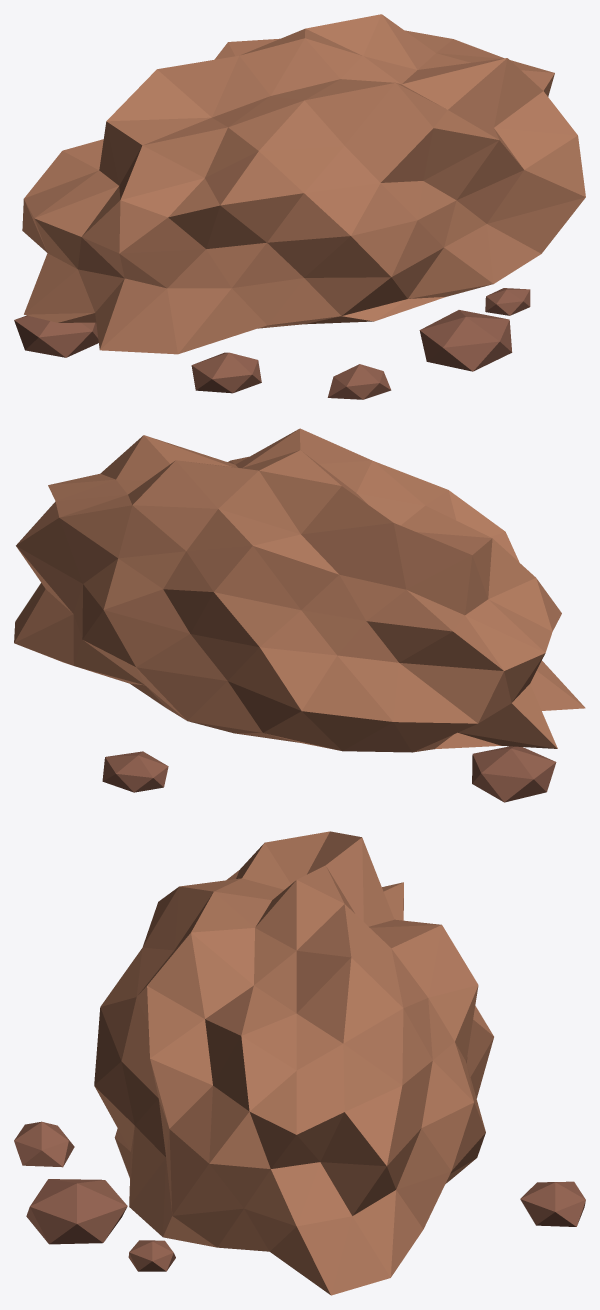
Rendered from mars_rock2.glb.
3 views of the same model, one above another, from view 1: azimuth 30°, elevation 25°; view 2: azimuth 150°, elevation 25°; view 3: azimuth 270°, elevation 25° (orthographic). The views are drawn at different scales.
Parts seen in each view (by area): view 1: Rock; view 2: Rock; view 3: Rock.
Part boxes in pixels (<box>): Rock: <box>14,14,585,399</box>; Rock: <box>14,428,585,802</box>; Rock: <box>14,831,585,1295</box>.
Size of what is drawn, in the model's own units: 4.57 by 2.13 by 3.61.
